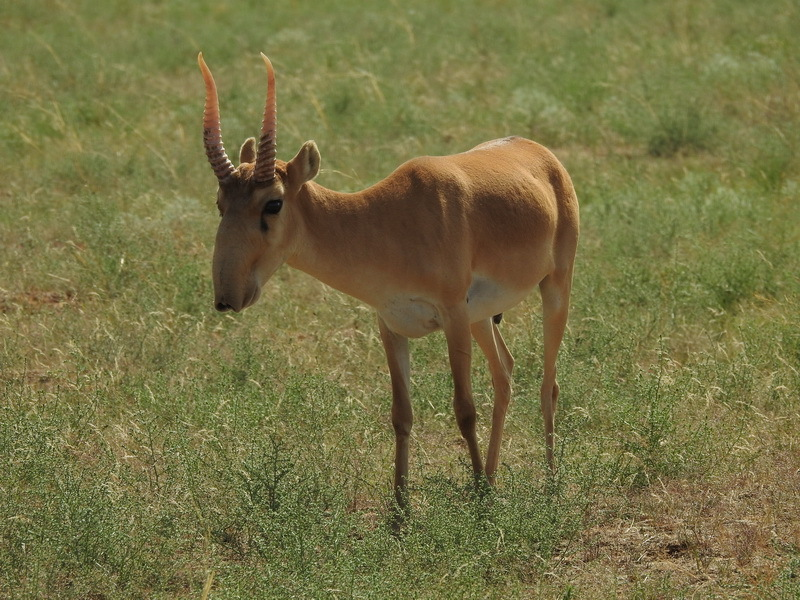saiga: (186, 44, 580, 520)
